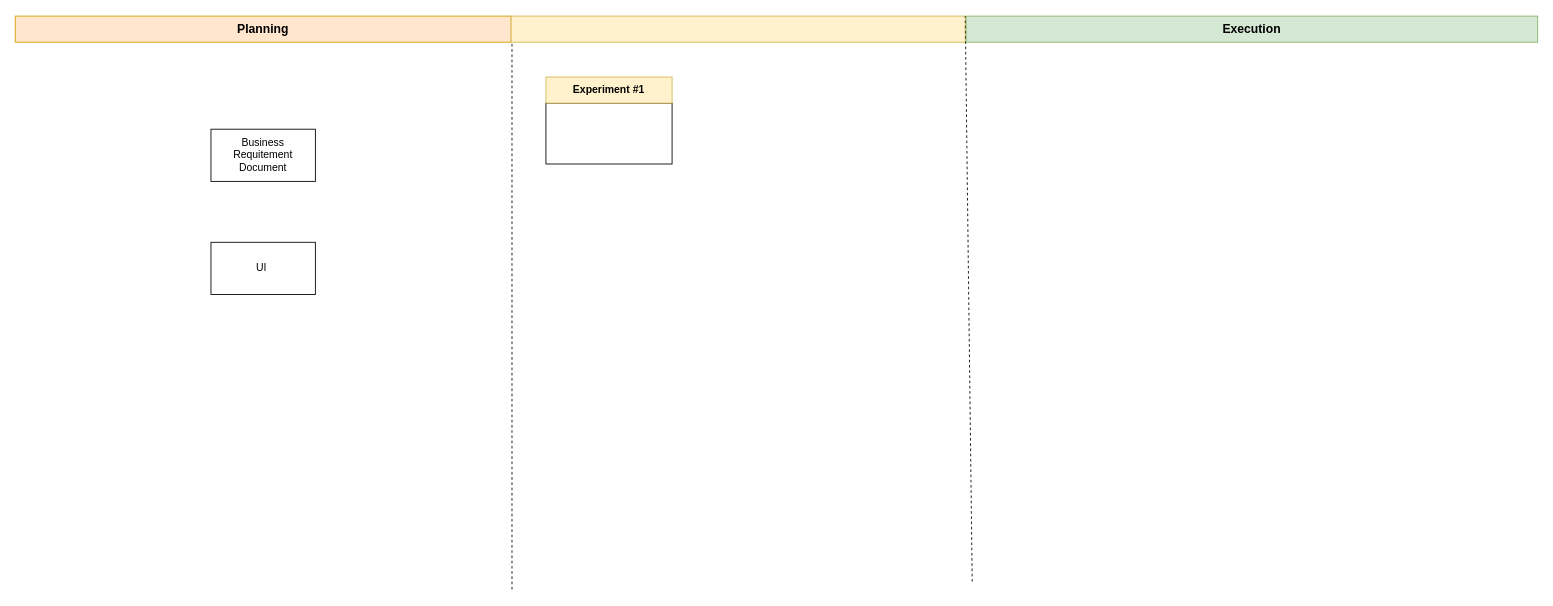
Image size: 1553x606. Some labels were removed from this diagram. The shapes that lost their labels are listed below. From the top down, each one's centre as x and y in pixels, then its label:
At point (737, 28): "Design".
At point (608, 133): "Getting Bounded Contexts".
